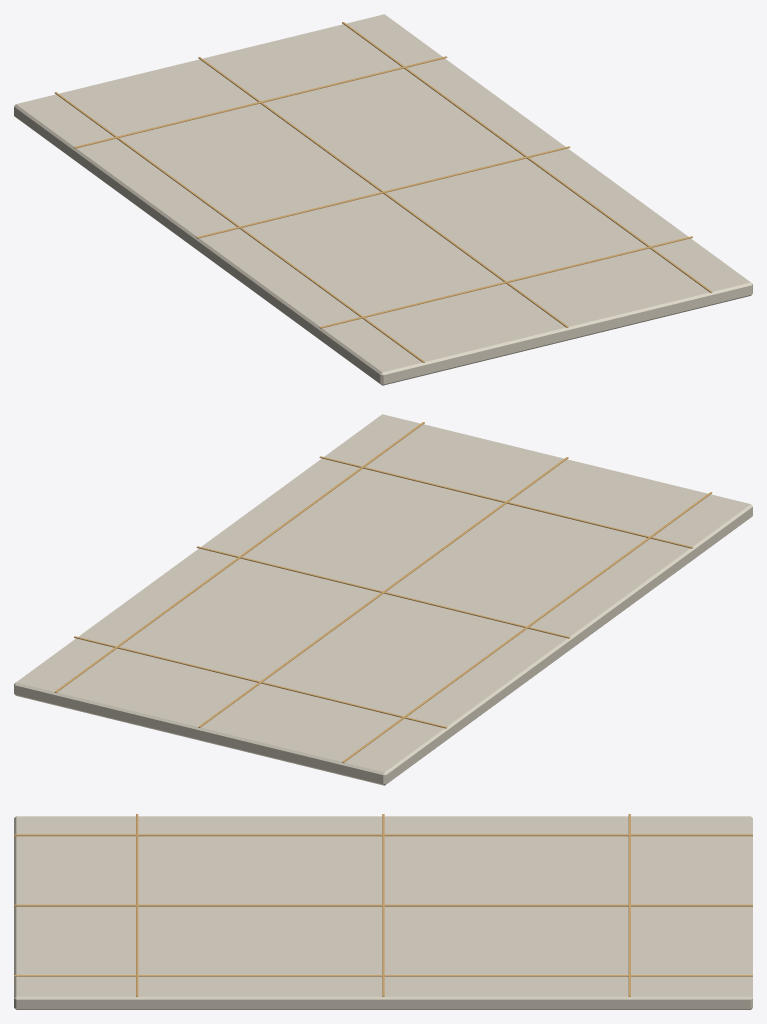
Rendered from div3_causeway_7m.glb.
3 renders of one model, top to bottom at view 1: azimuth 30°, elevation 25°; view 2: azimuth 150°, elevation 25°; view 3: azimuth 270°, elevation 25°, orthographic.
Visible parts, largest first — view 1: div3_causeway_7m__porcelain-ivory, div3_causeway_7m__satin-honey-brass; view 2: div3_causeway_7m__porcelain-ivory, div3_causeway_7m__satin-honey-brass; view 3: div3_causeway_7m__porcelain-ivory, div3_causeway_7m__satin-honey-brass.
Boxes of the visible parts, x1,y1,x2,y2 form: div3_causeway_7m__porcelain-ivory: [14, 14, 752, 385]; div3_causeway_7m__satin-honey-brass: [54, 22, 712, 362]; div3_causeway_7m__porcelain-ivory: [14, 414, 752, 785]; div3_causeway_7m__satin-honey-brass: [54, 422, 712, 762]; div3_causeway_7m__porcelain-ivory: [14, 816, 752, 1009]; div3_causeway_7m__satin-honey-brass: [14, 814, 752, 996].
Size of the model in its own units: 7 by 0.265 by 12.
